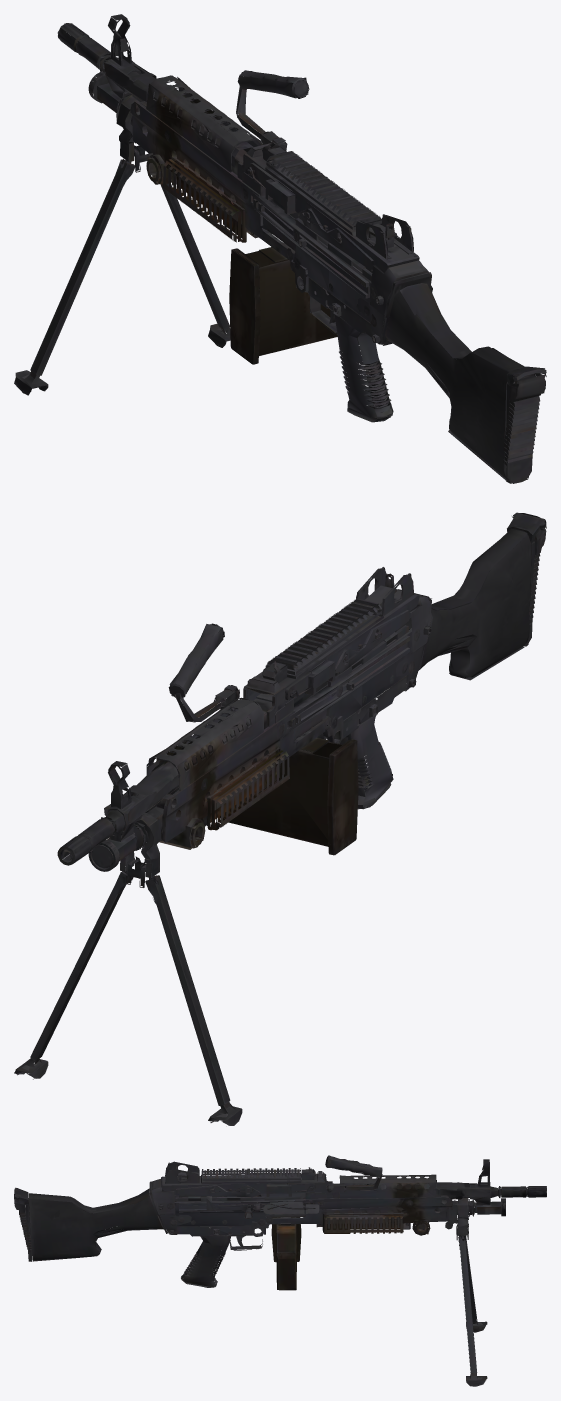
3 views of the same model, one above another, from view 1: azimuth 30°, elevation 25°; view 2: azimuth 150°, elevation 25°; view 3: azimuth 270°, elevation 25° (orthographic). The views are drawn at different scales.
Parts seen in each view (by area): view 1: m249_body, box, cover; view 2: m249_body, box, cover; view 3: m249_body, cover, box.
Boxes of the visible parts, x1,y1,x2,y2 form: m249_body: (14, 14, 546, 483); box: (229, 242, 337, 364); cover: (247, 141, 417, 273); m249_body: (14, 512, 546, 1125); box: (220, 733, 358, 855); cover: (247, 567, 421, 705); m249_body: (14, 1155, 546, 1386); cover: (161, 1161, 315, 1196); box: (271, 1217, 301, 1290).
Size of the model in its own units: 0.2784 by 0.4588 by 1.04.
Materials: 1 (1 with a texture image).
